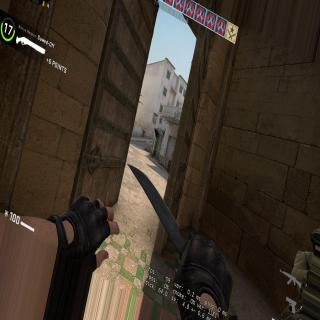CT-Body: (142, 130, 144, 137)
CT-Head: (143, 129, 144, 131)
